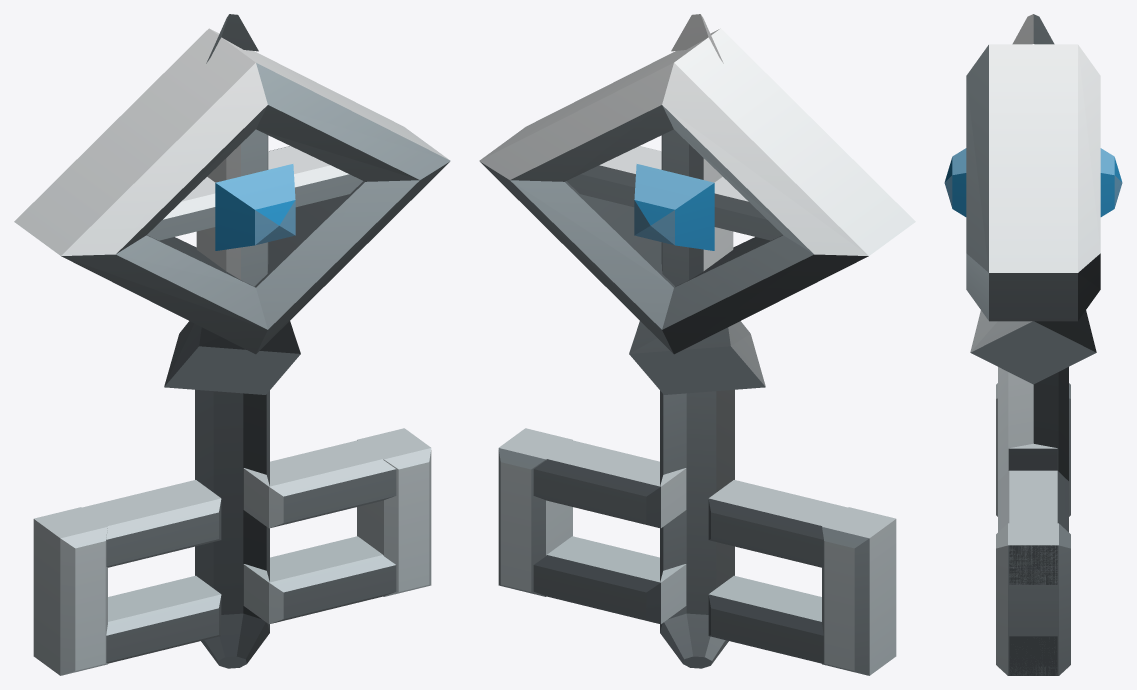
Rendered from key_silver_crypt.glb.
3 views of the same model, side by side, from view 1: azimuth 30°, elevation 25°; view 2: azimuth 150°, elevation 25°; view 3: azimuth 270°, elevation 25° (orthographic). The views are drawn at different scales.
Parts seen in each view (by area): view 1: model; view 2: model; view 3: model.
Boxes of the visible parts, <box> form: model: <box>14,14,450,675</box>; model: <box>479,14,915,675</box>; model: <box>944,14,1122,675</box>.
Size of the model in its own units: 0.48 by 0.76 by 0.2.
1 material, 1 textured.
